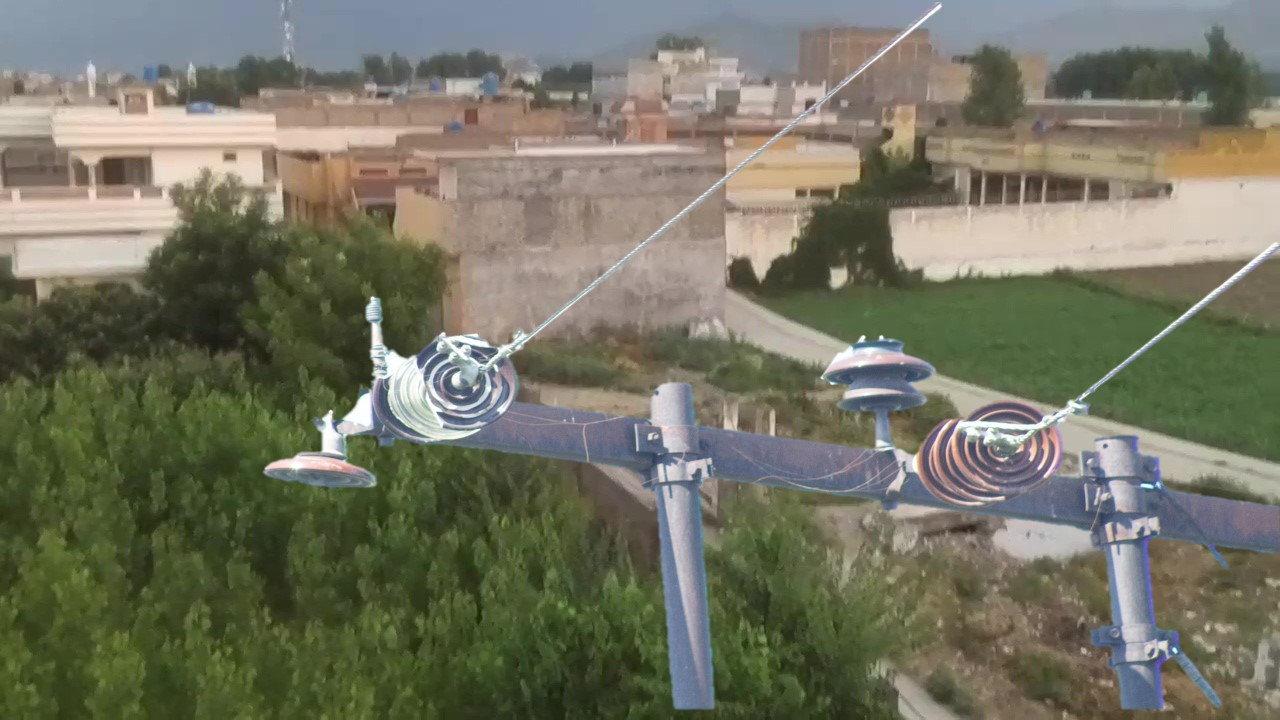defect_disc: (400, 326, 530, 445)
insulator_disc: (920, 406, 1063, 512), (261, 448, 385, 508)
